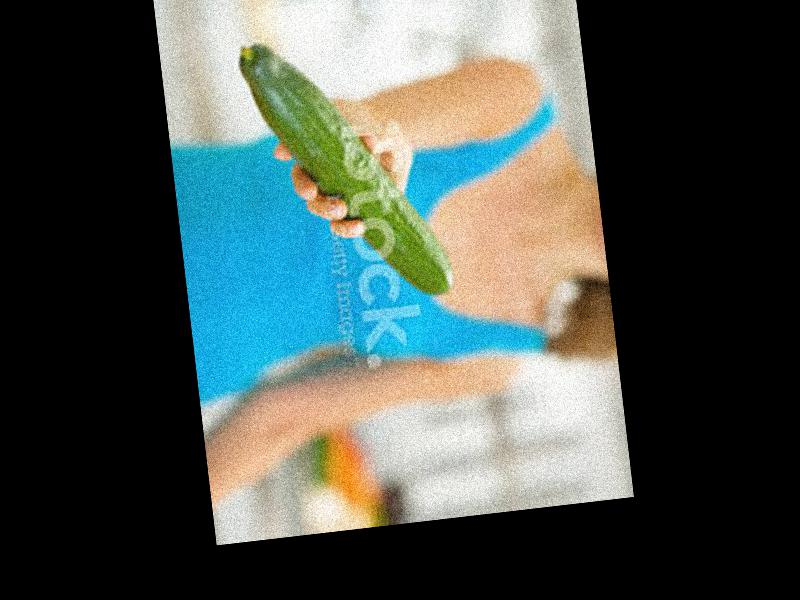Cucumber: (236, 25, 454, 316)
